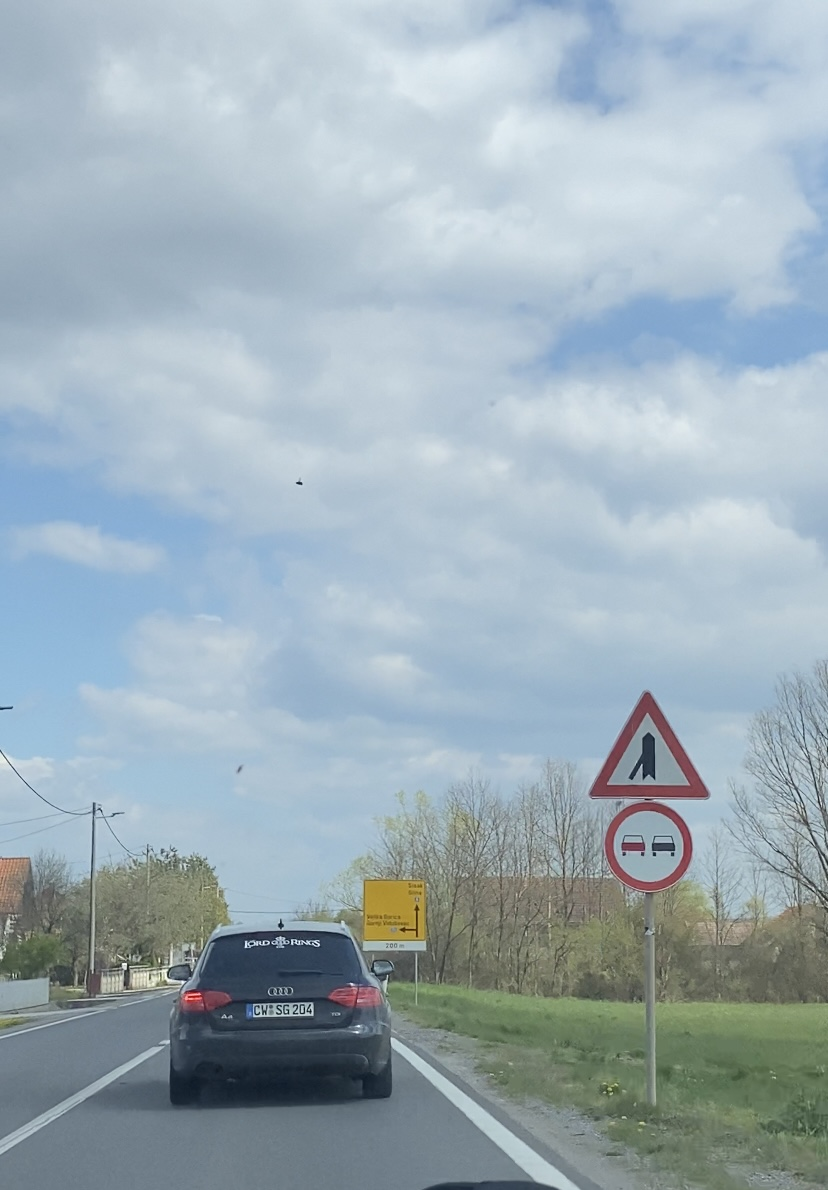Zabrana pretjecanja: (604, 802, 694, 893)
